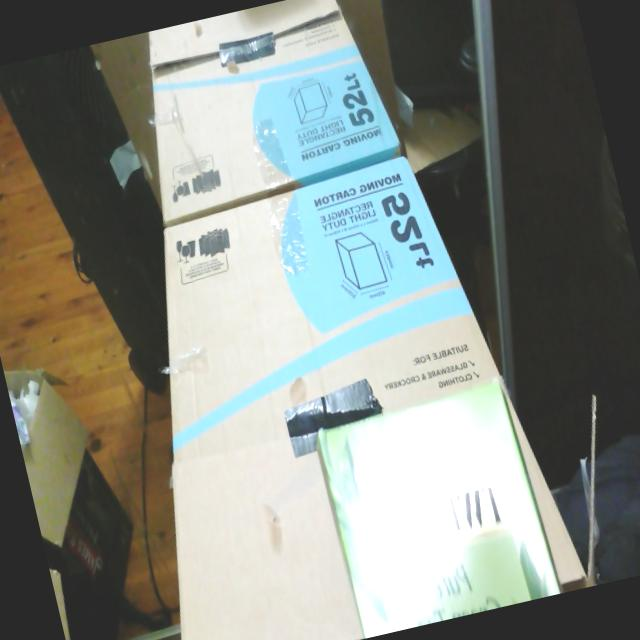twinings_greentea_box: (317, 382, 560, 637)
